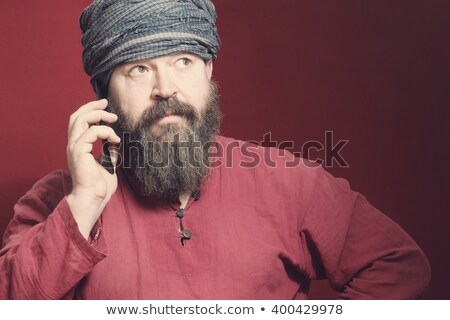phone: (84, 90, 122, 190)
talk: (65, 52, 206, 195)
